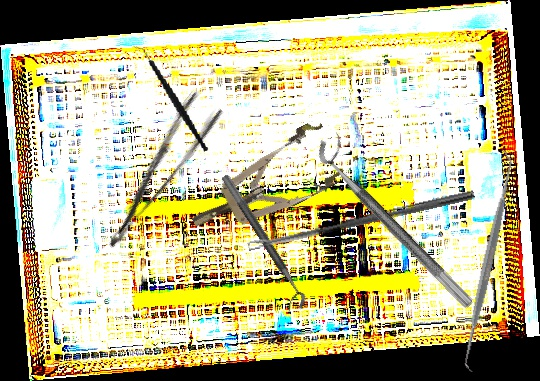Chopper: (131, 34, 210, 162)
Dressing Forceps: (83, 88, 227, 251)
Fixation Ring: (310, 128, 488, 311), (209, 173, 311, 316)
Spatula Surgical: (451, 149, 525, 373)
Speculum: (177, 117, 350, 252)
Surgical Spoon: (246, 189, 476, 251)
